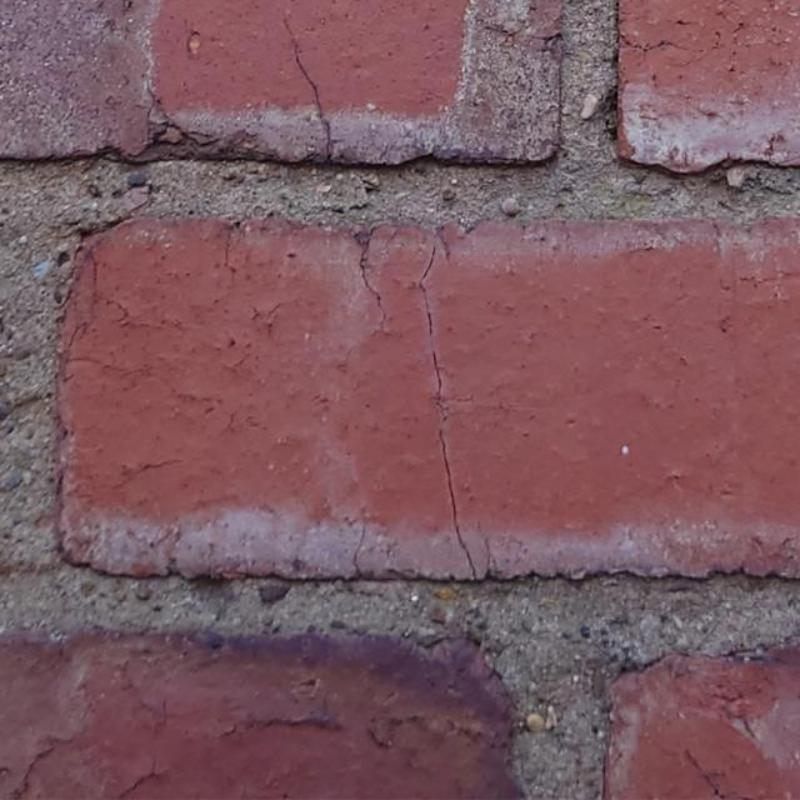pothole: (429, 348, 480, 580), (281, 18, 347, 158), (359, 226, 385, 324), (416, 243, 437, 338)
